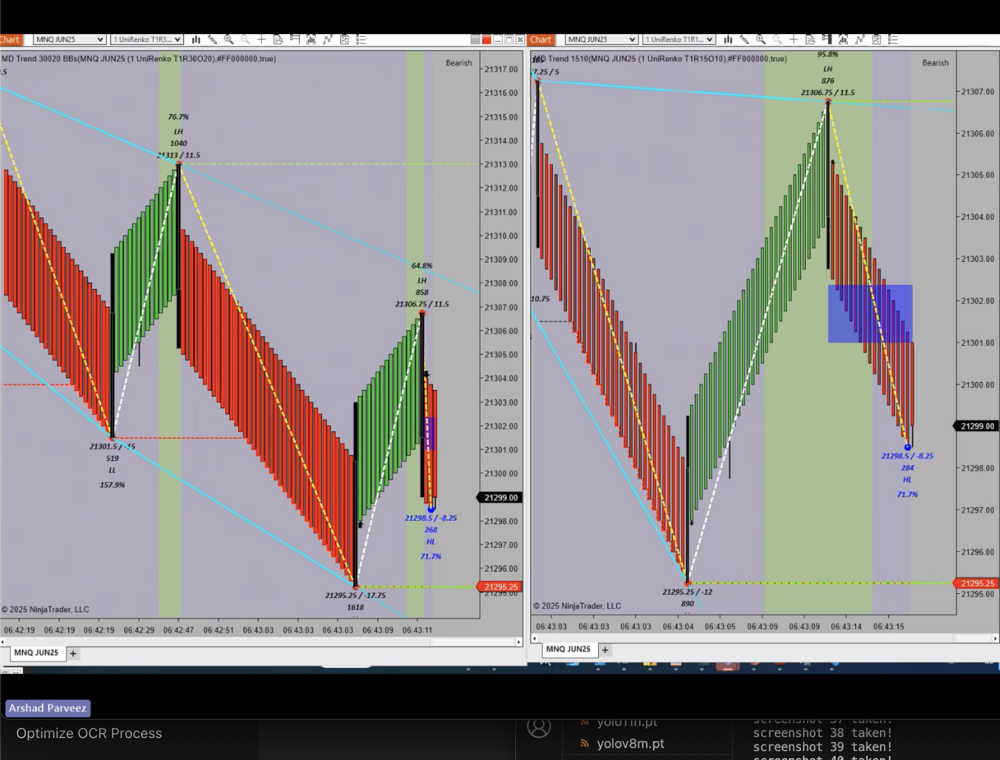HL: (420, 532, 441, 551), (897, 471, 920, 486)
LH: (169, 122, 191, 142), (819, 62, 841, 77), (413, 271, 430, 290)
LL: (103, 463, 126, 479)
